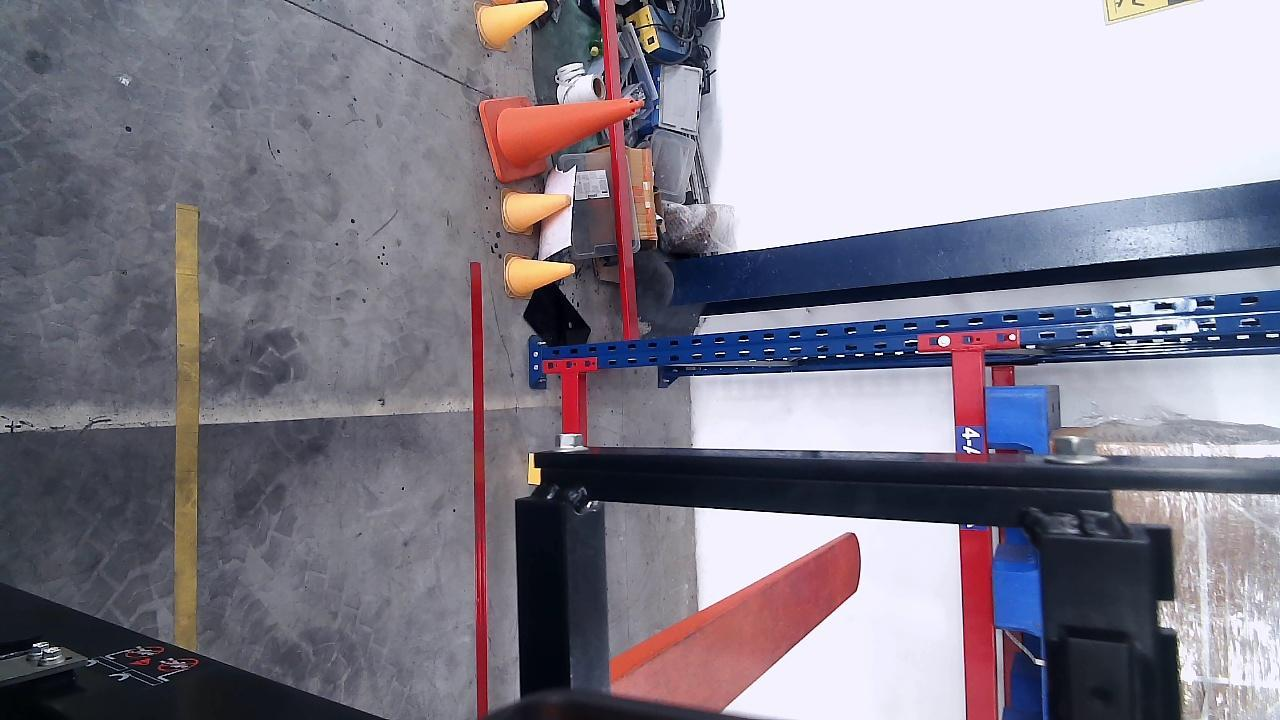h_rack: (948, 343, 1002, 719)
red_line: (469, 261, 491, 717)
yellow_line: (172, 206, 198, 650)
